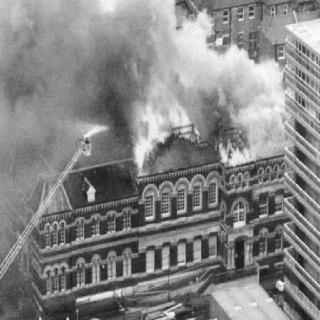Fire: (123, 66, 203, 168), (213, 120, 255, 167)
Smoke: (8, 1, 276, 151)
